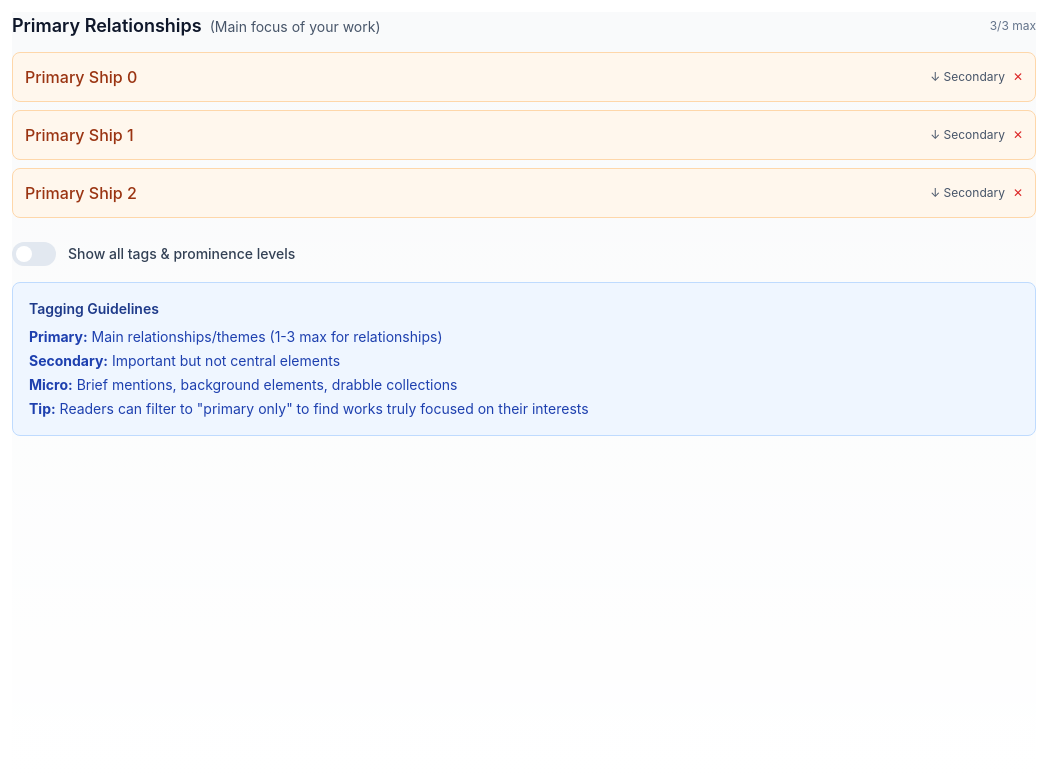
Test case: TagProminenceSelector › prevents moving to primary when limit reached
The image size is (1048, 780).
// Show advanced view
Click the text "Show all tags & prominence levels" at (182, 254), box [68, 244, 295, 264]
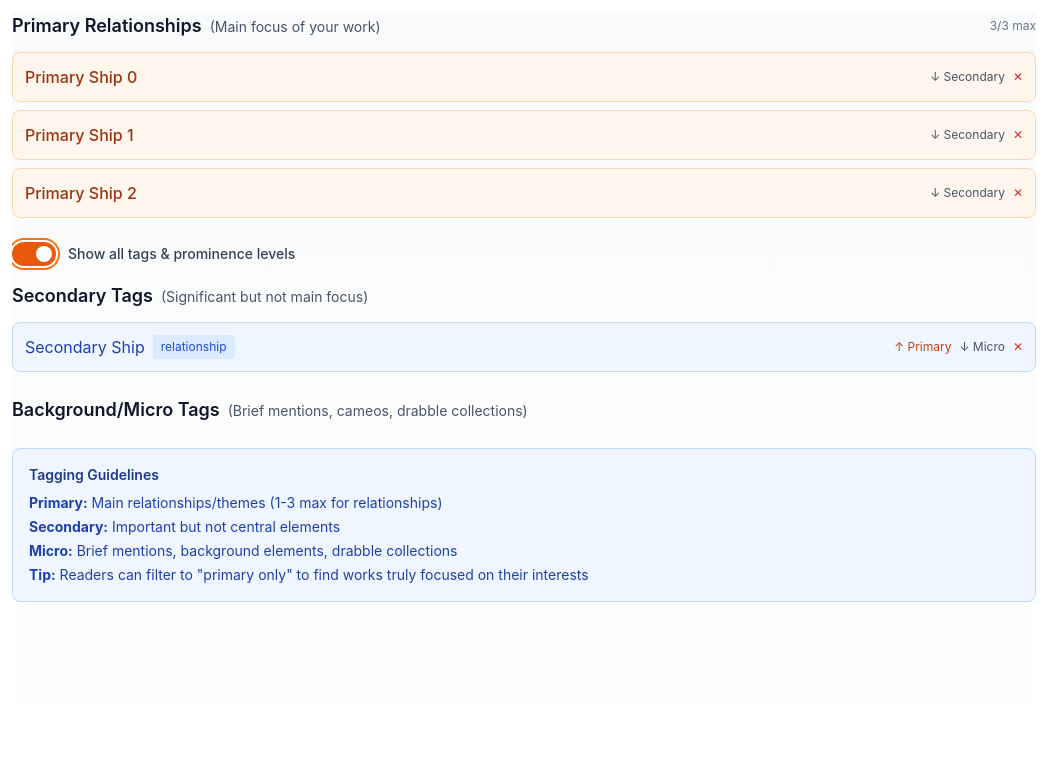
expect the button titled "Move to primary" is disabled: met, box [894, 339, 951, 355]
